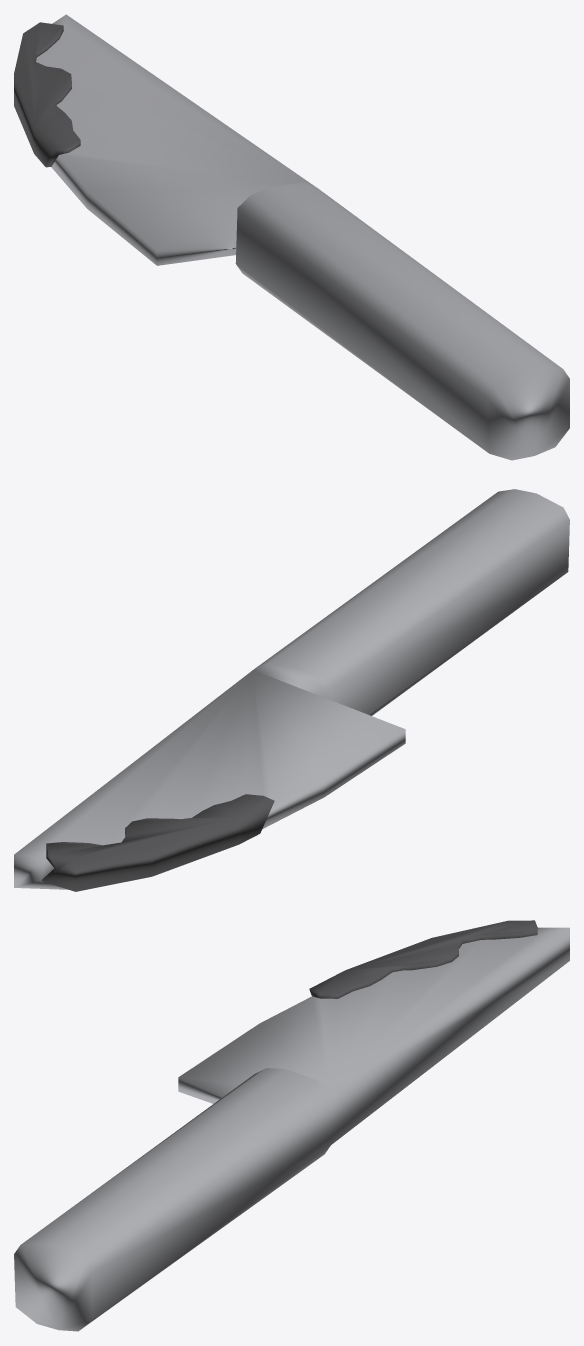
File: Assets.fbx_QuestGlas.fbx_Knife.fbx
3 views of the same model, one above another, from view 1: azimuth 30°, elevation 25°; view 2: azimuth 150°, elevation 25°; view 3: azimuth 330°, elevation 25° (orthographic). The views are drawn at different scales.
Parts seen in each view (by area): view 1: Cube.001, Cube.002; view 2: Cube.001, Cube.002; view 3: Cube.001, Cube.002.
Part boxes in pixels (bbox=[...]): Cube.001: bbox=[36, 14, 569, 460]; Cube.002: bbox=[14, 22, 80, 167]; Cube.001: bbox=[14, 489, 569, 889]; Cube.002: bbox=[41, 794, 274, 891]; Cube.001: bbox=[14, 927, 569, 1331]; Cube.002: bbox=[309, 920, 537, 998].
Size of the model in its own units: 2.59 by 1.35 by 14.
